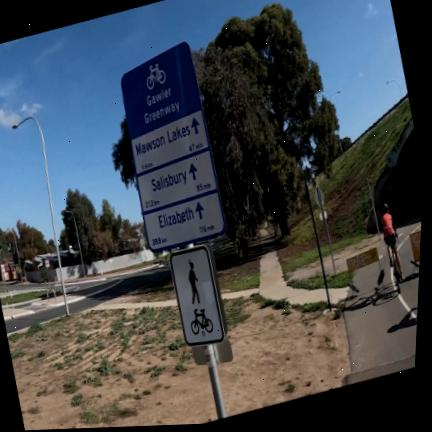Bike_Lane: (344, 221, 421, 384)
Bike_Sign: (121, 42, 226, 251), (170, 244, 227, 348)
